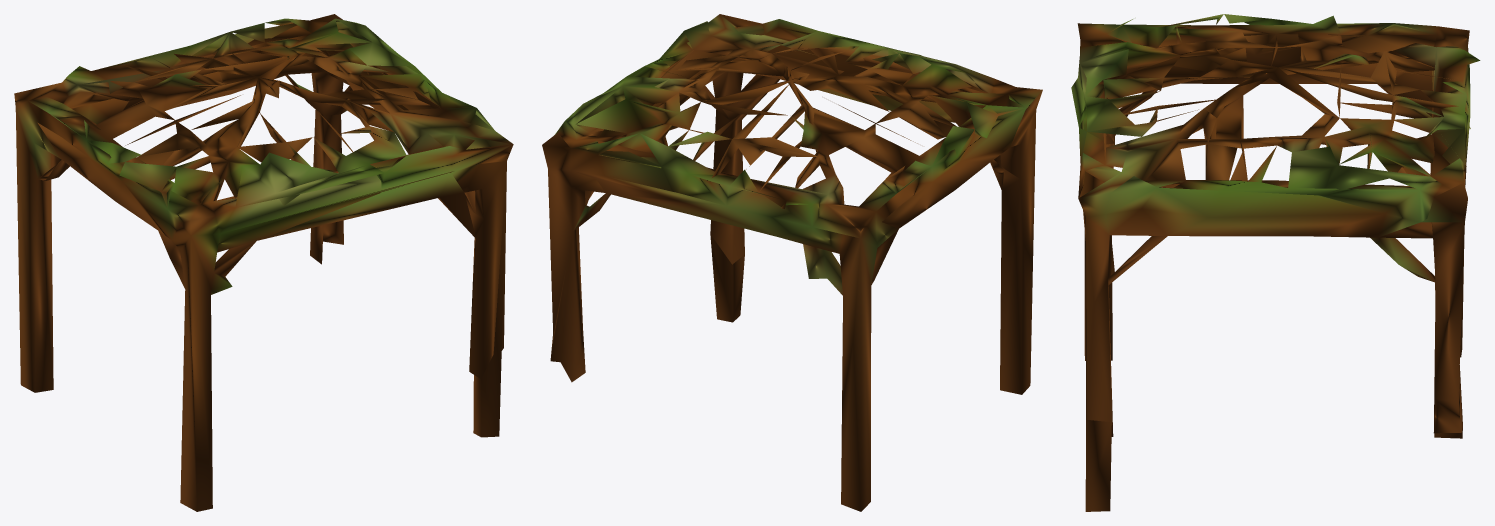
File: gen3d-wooden-pergola-lod1.glb
The picture shows the model from 3 angles, left to right: view 1: azimuth 30°, elevation 25°; view 2: azimuth 150°, elevation 25°; view 3: azimuth 270°, elevation 25°; orthographic projection. The views are drawn at different scales.
Parts seen in each view (by area): view 1: part_0; view 2: part_0; view 3: part_0.
Part boxes in pixels (x1,y1,x2,y2): part_0: (14, 14, 513, 511); part_0: (542, 14, 1042, 511); part_0: (1071, 14, 1480, 511).
Bounding box in the file's own units: 1.05 × 0.9832 × 0.998.
